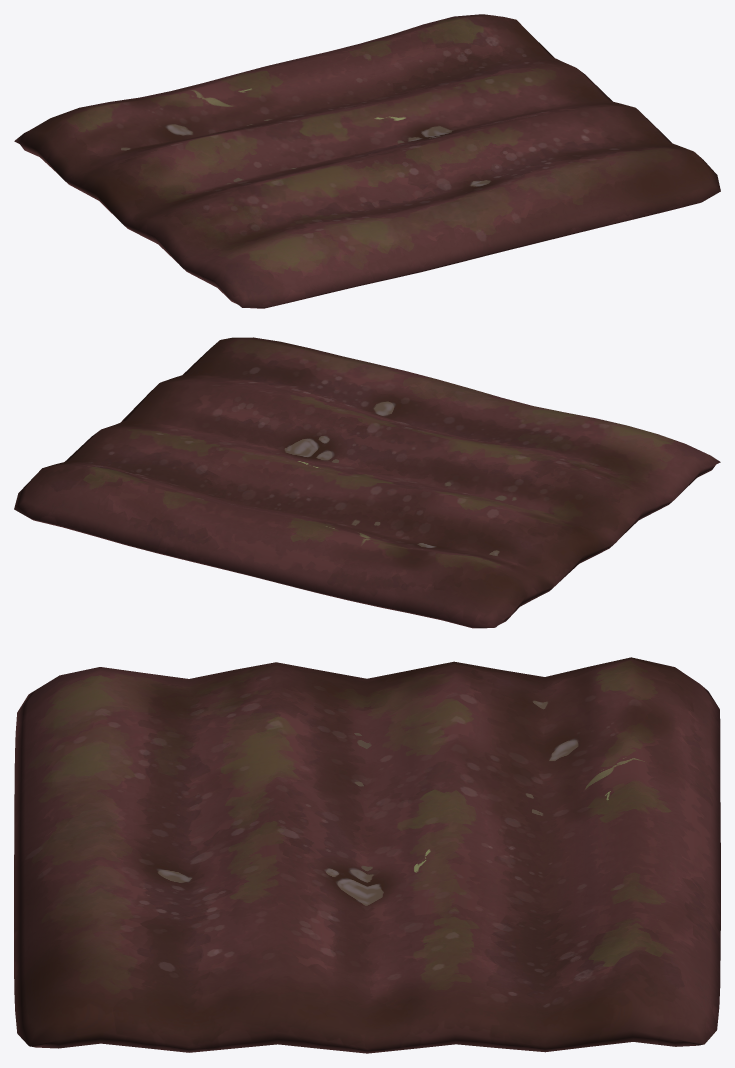
Rendered from Msh_Ground_Env.fbx.
The picture shows the model from 3 angles, top to bottom: view 1: azimuth 30°, elevation 25°; view 2: azimuth 150°, elevation 25°; view 3: azimuth 270°, elevation 25°; orthographic projection. The views are drawn at different scales.
Parts seen in each view (by area): view 1: Msh_TerreLow_1_Env:Group43081; view 2: Msh_TerreLow_1_Env:Group43081; view 3: Msh_TerreLow_1_Env:Group43081.
Part boxes in pixels (x1,y1,x2,y2): Msh_TerreLow_1_Env:Group43081: (14,14,720,308); Msh_TerreLow_1_Env:Group43081: (14,337,720,628); Msh_TerreLow_1_Env:Group43081: (14,657,720,1053).
Bounding box in the file's own units: 31.01 × 3.17 × 25.55.
